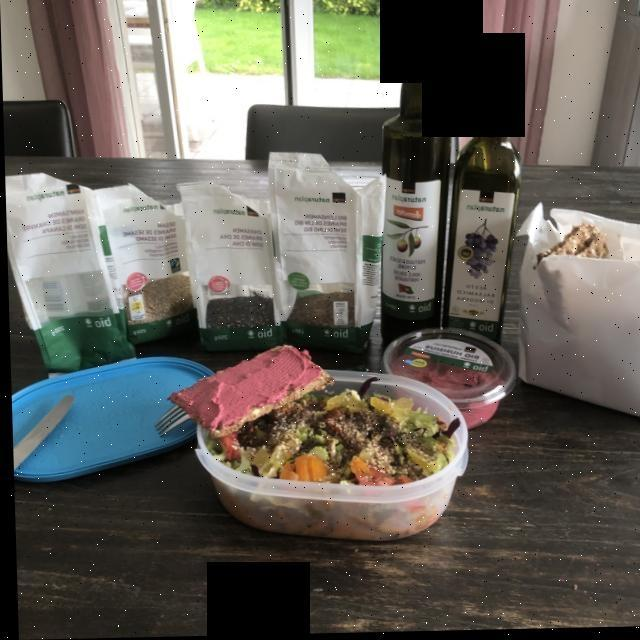bread: (165, 341, 346, 438)
carrot: (221, 445, 424, 529)
sesame-seeds: (231, 393, 441, 457)
